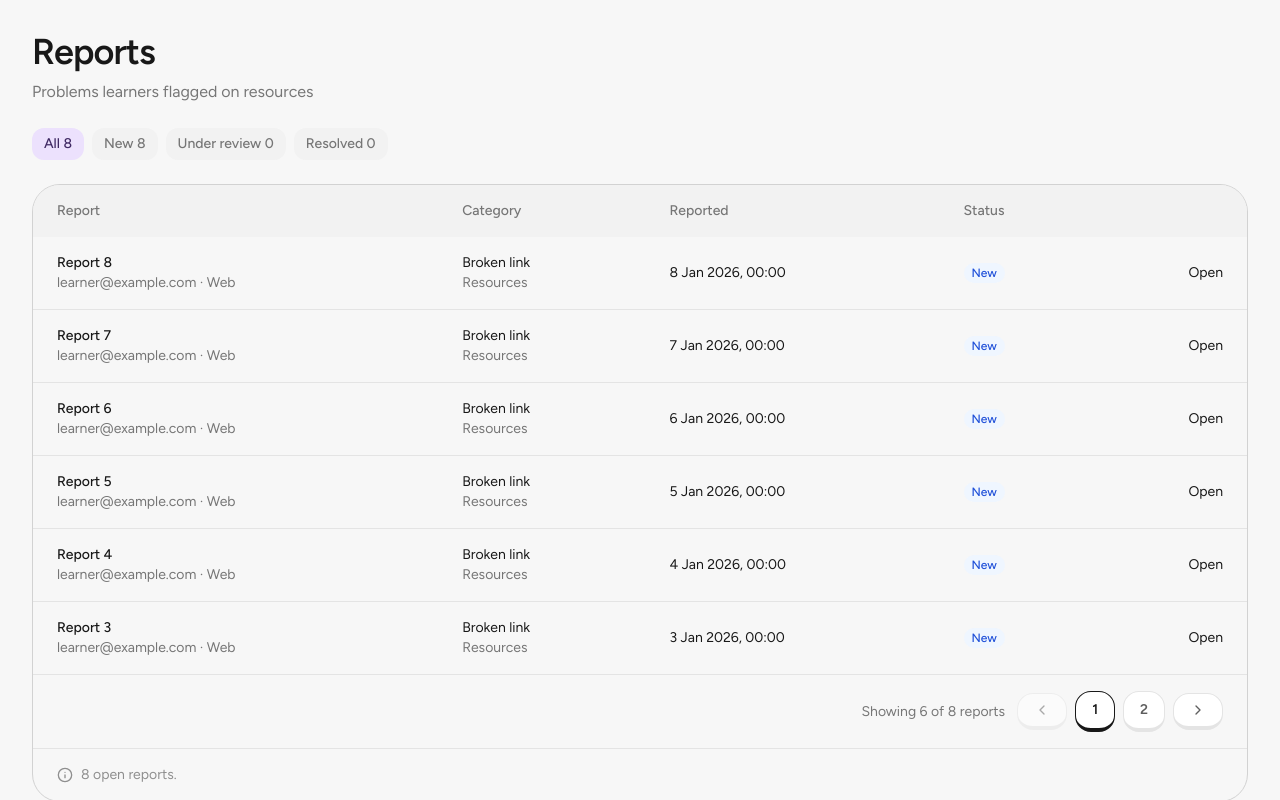
Scenario: ReportsPage paging › goes back to page 1 when the filter changes
Click the button named "Next page" at [1198, 712], box [1173, 693, 1223, 730]
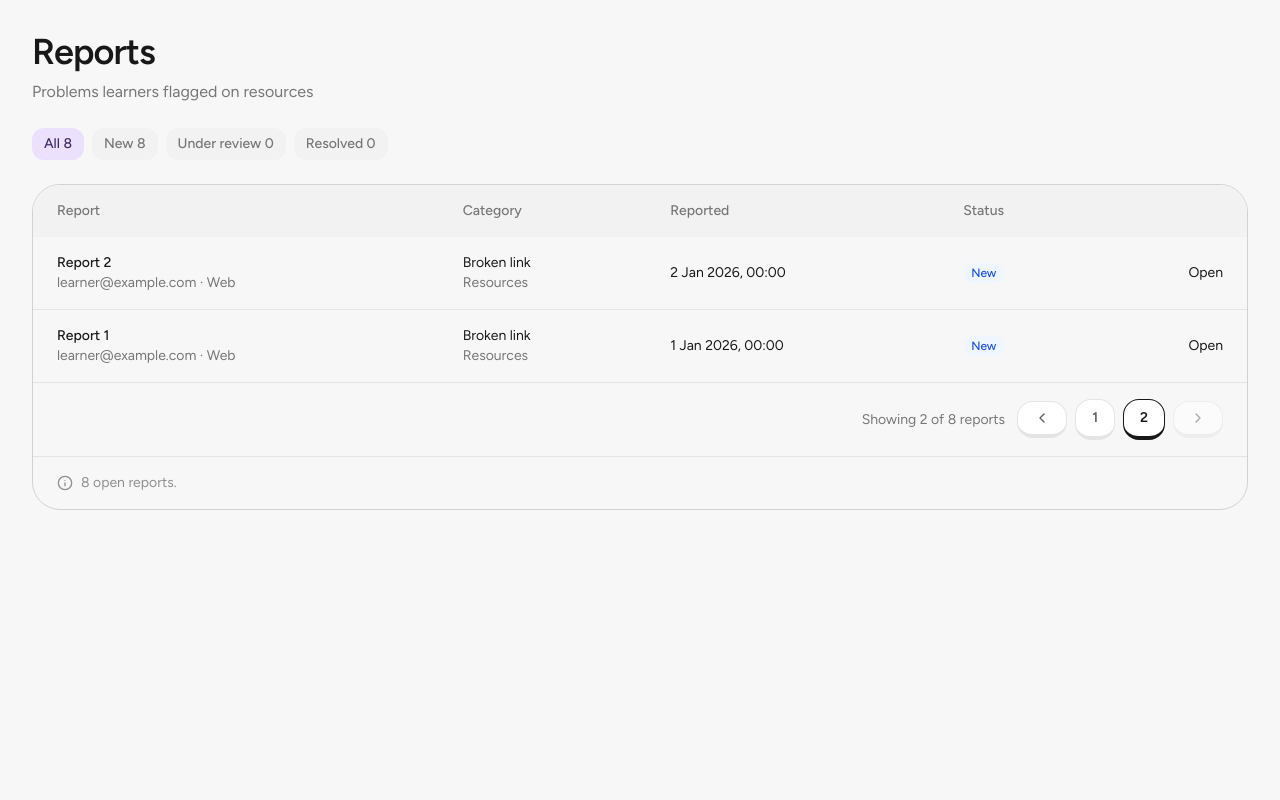
Click the button "New 8" at [125, 144], box [92, 128, 158, 160]
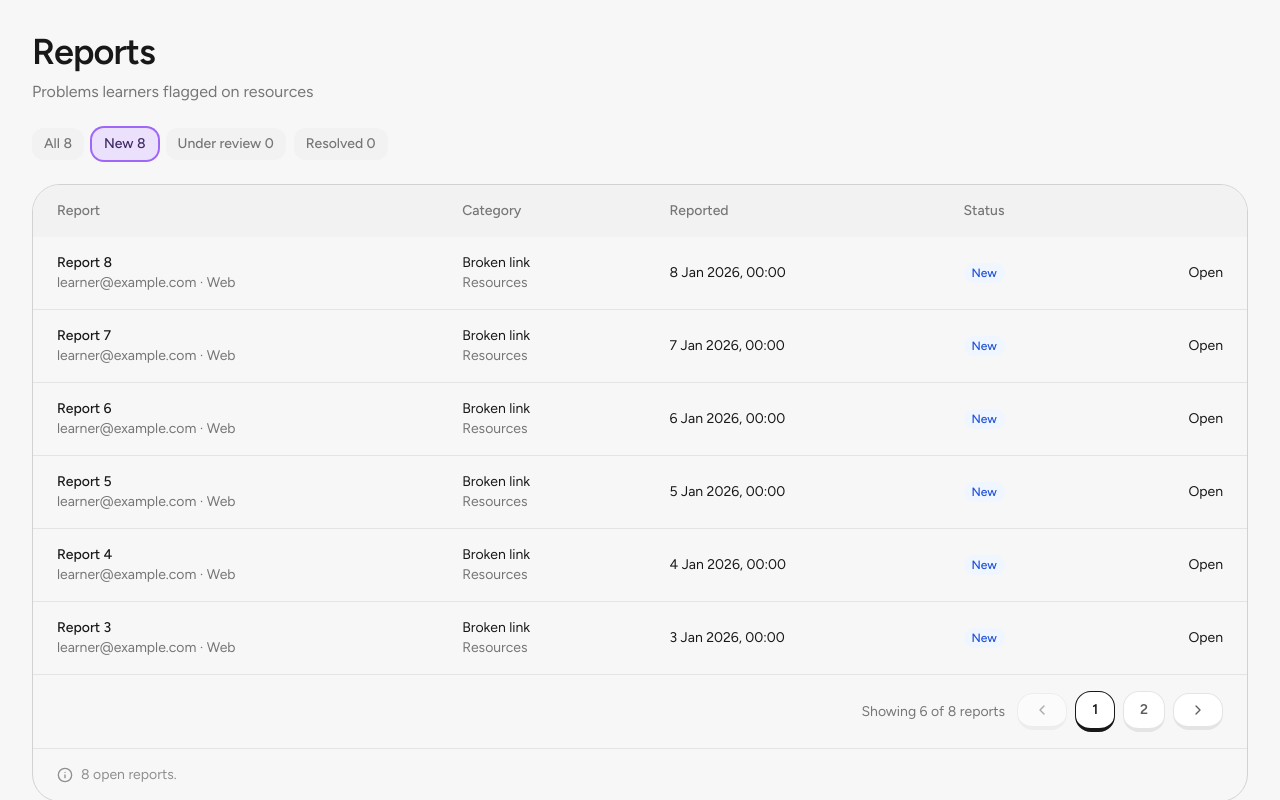
expect the text "Showing 6 of 8 reports" is shown: met, box [862, 702, 1005, 722]
